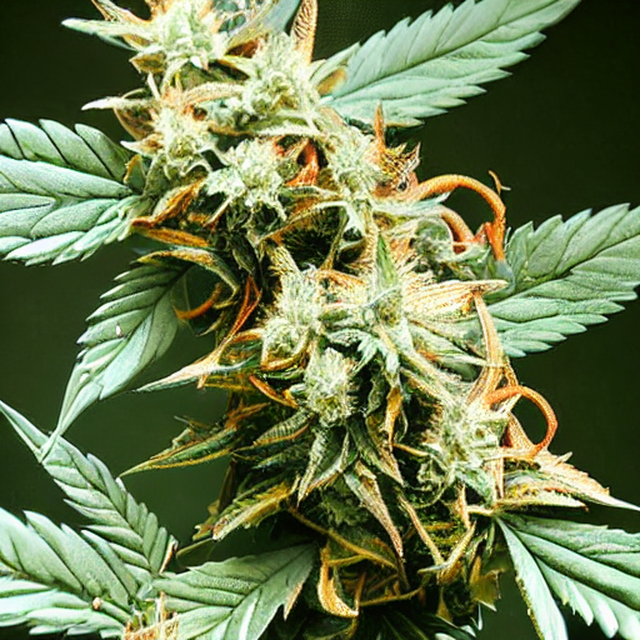Marijuana Joint: (72, 1, 627, 559)
